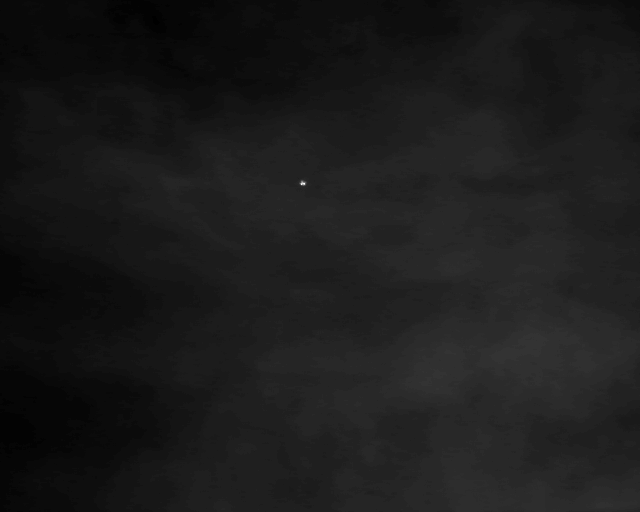Target: (300, 180, 308, 188)
